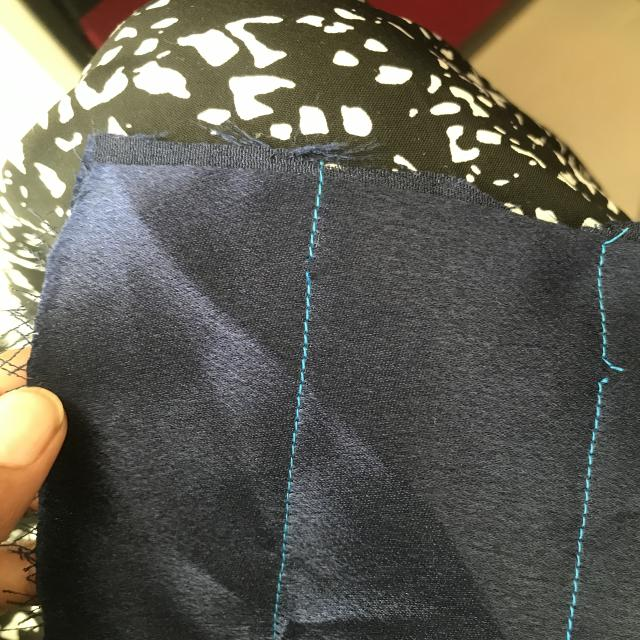good: (578, 347, 634, 399)
